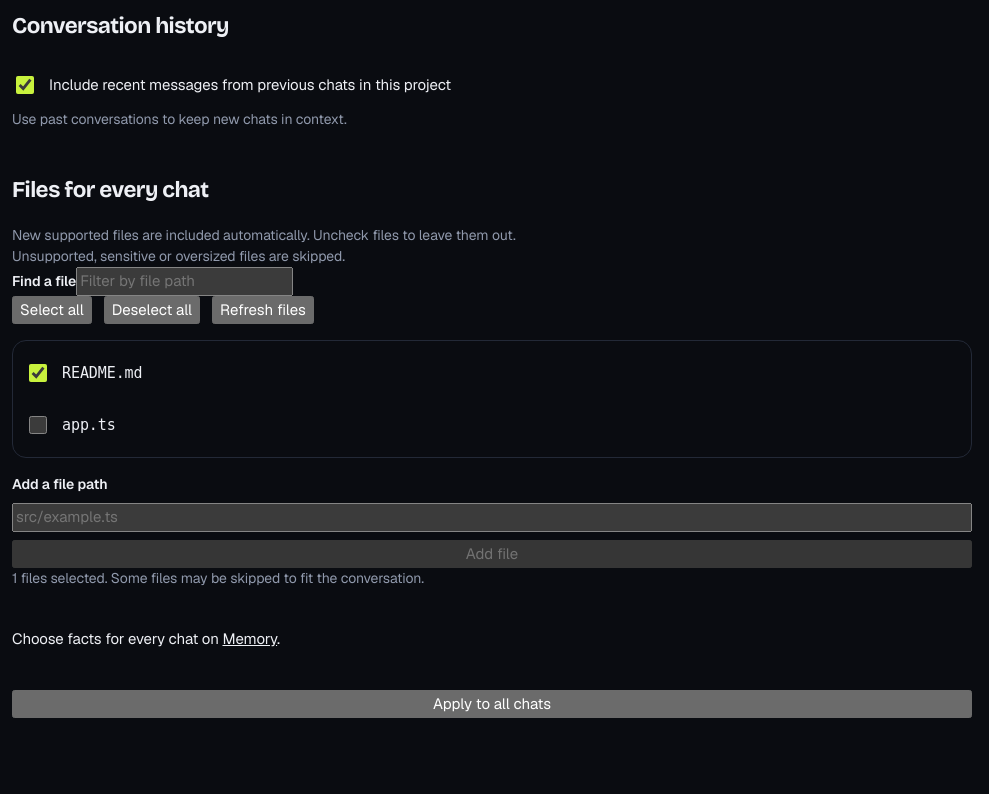
Test case: ProjectContextSettings › loads stored choices and applies files across all chats without overwriting memory selections
The image size is (989, 794).
Expected: the checkbox labelled "README.md" is checked, [29,364,47,382]
Expected: the checkbox labelled "Include recent messages from previous chats in this project" is checked, [16,76,34,94]
Click the checkbox labelled "app.ts" at (38, 425), box [29,416,47,434]
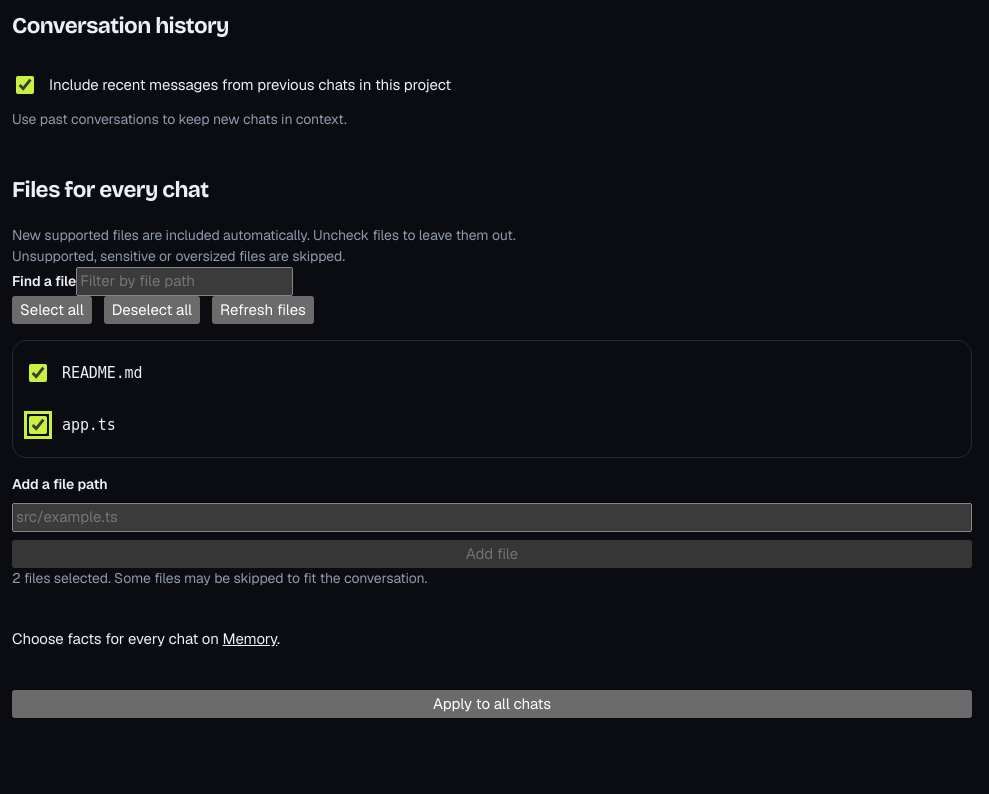
Click the button "Apply to all chats" at (492, 704), box [12,690,972,718]
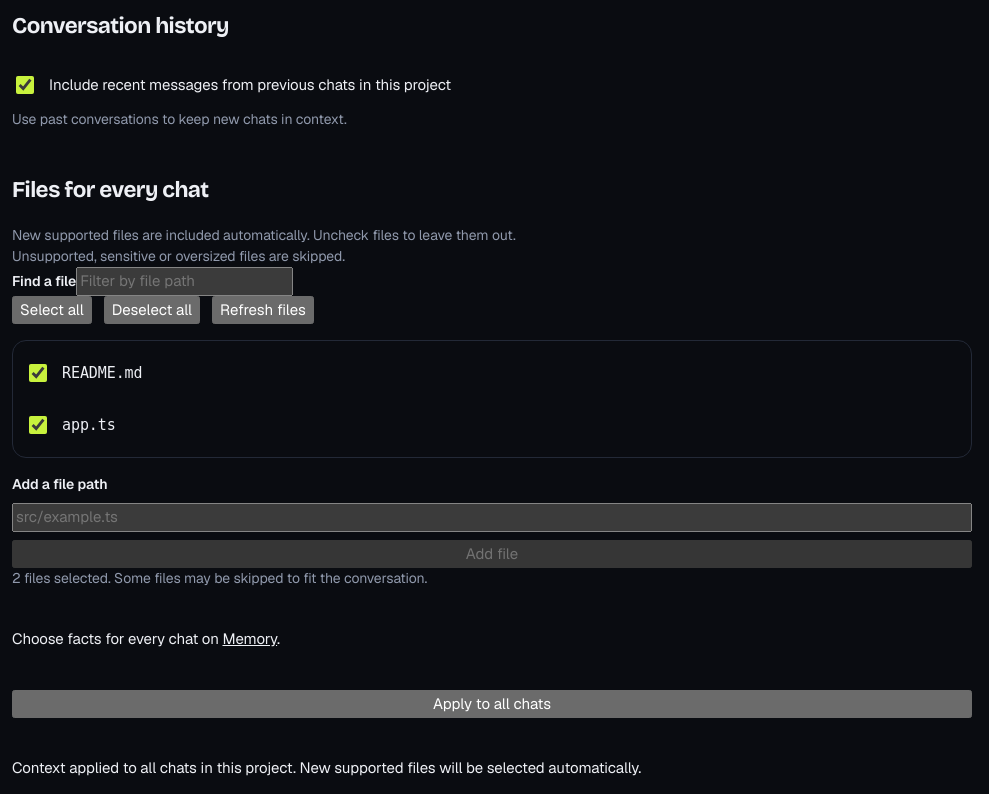
Result: the text "Context applied to all chats in this project. New supported files will be selected automatically." is shown at [12,758,641,777]
